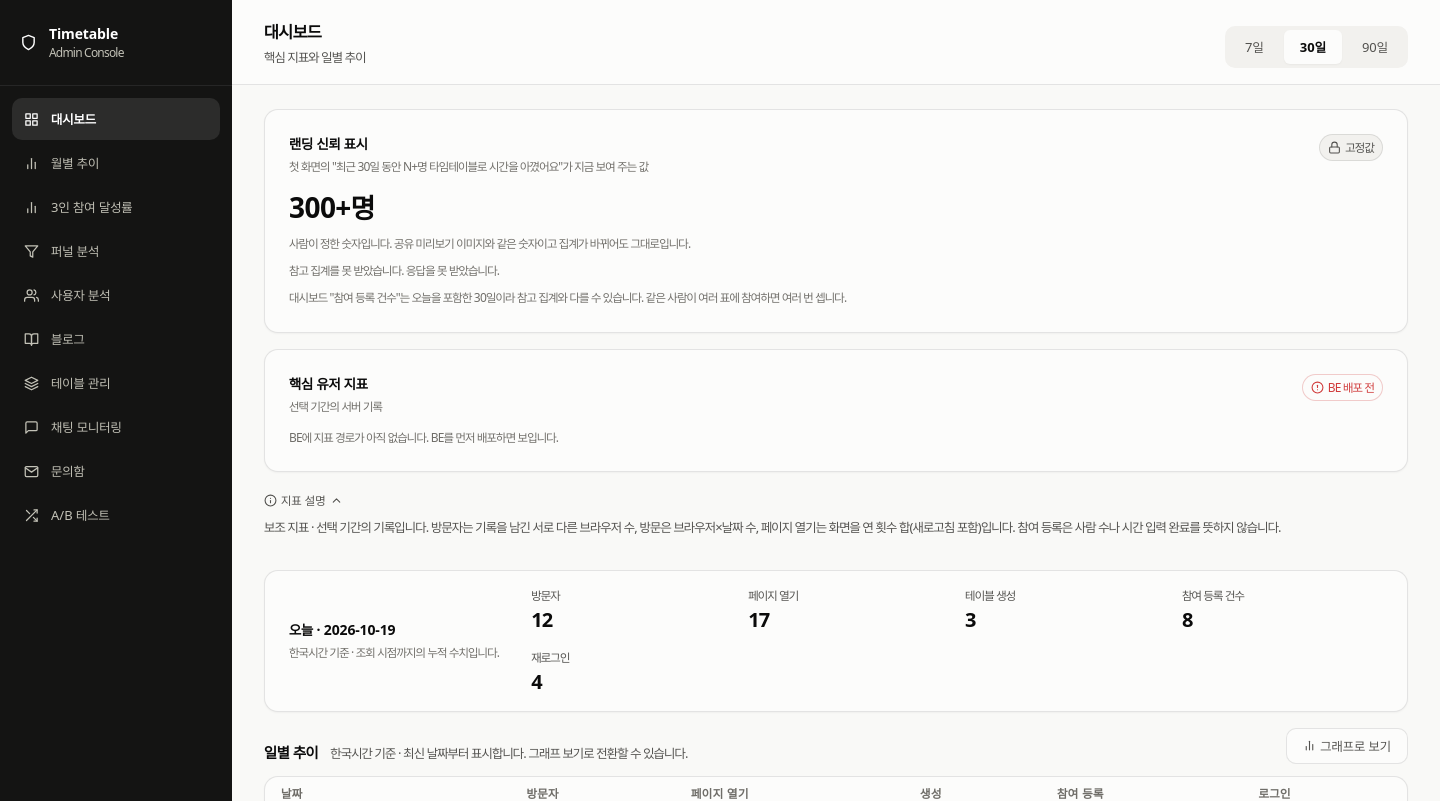
Test: 오늘 한국시간 날짜의 다섯 수치를 일별 추이 위에 표시하며 마지막 행을 임의로 쓰지 않는다
The image size is (1440, 801).
Expected: the text "12" is shown, [531,606,552,633]
Expected: the text "17" is shown, [748,606,769,633]
Step 1. Click the button "그래프로 보기" → (1347, 746), box [1286,728,1408,764]
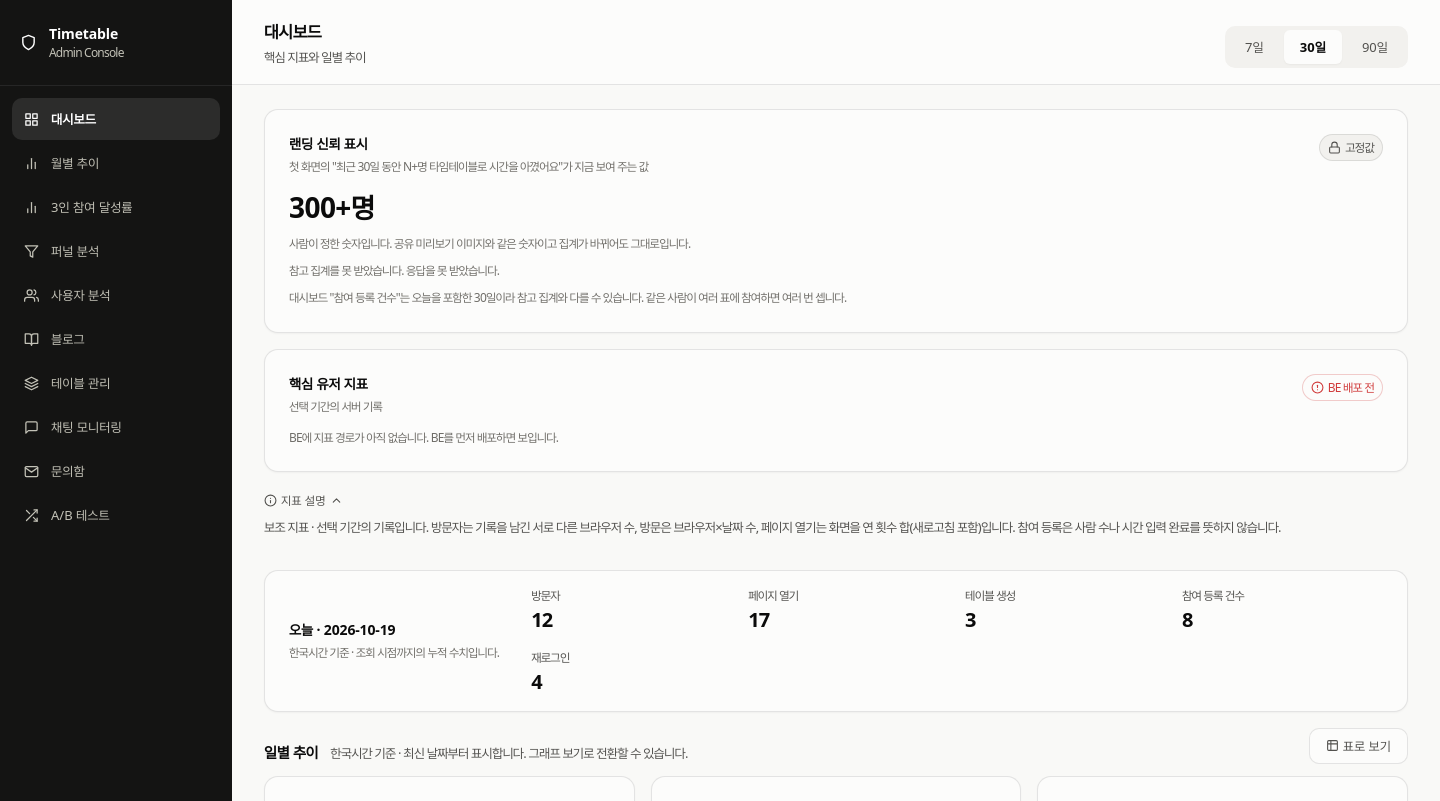
Expected: the button "표로 보기" is shown, [1309,728,1408,764]
